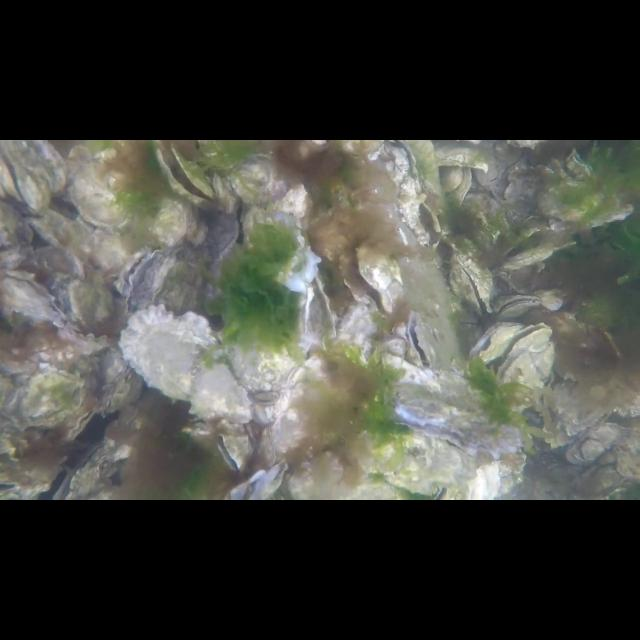Oyster-Closed: (68, 160, 136, 233), (503, 241, 575, 273), (403, 140, 442, 198), (57, 398, 103, 446), (57, 327, 111, 355), (382, 336, 408, 358)
Oyster-Indeterminate: (121, 306, 253, 426), (352, 430, 478, 494), (270, 356, 328, 452), (8, 368, 88, 424), (26, 210, 94, 266), (56, 276, 114, 332), (150, 200, 193, 248), (340, 302, 376, 356)
Oyster-Open: (234, 157, 322, 293), (388, 377, 524, 458), (52, 424, 140, 500), (380, 140, 442, 244), (154, 146, 226, 212), (342, 245, 404, 319), (0, 269, 68, 331), (0, 140, 56, 213), (546, 374, 612, 434), (494, 324, 552, 386), (450, 252, 498, 314), (112, 247, 158, 306), (222, 458, 288, 499), (304, 275, 338, 353), (468, 321, 522, 361), (406, 312, 440, 371), (217, 432, 253, 472), (496, 295, 538, 319)
